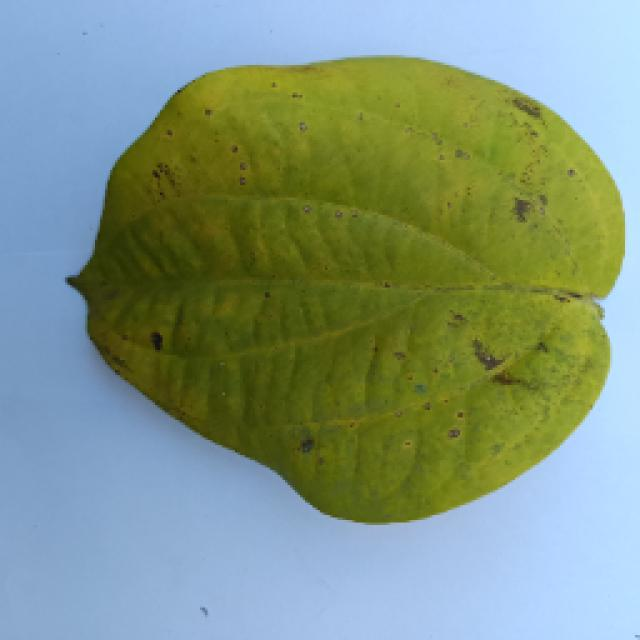slow-decline: (70, 55, 620, 523)
